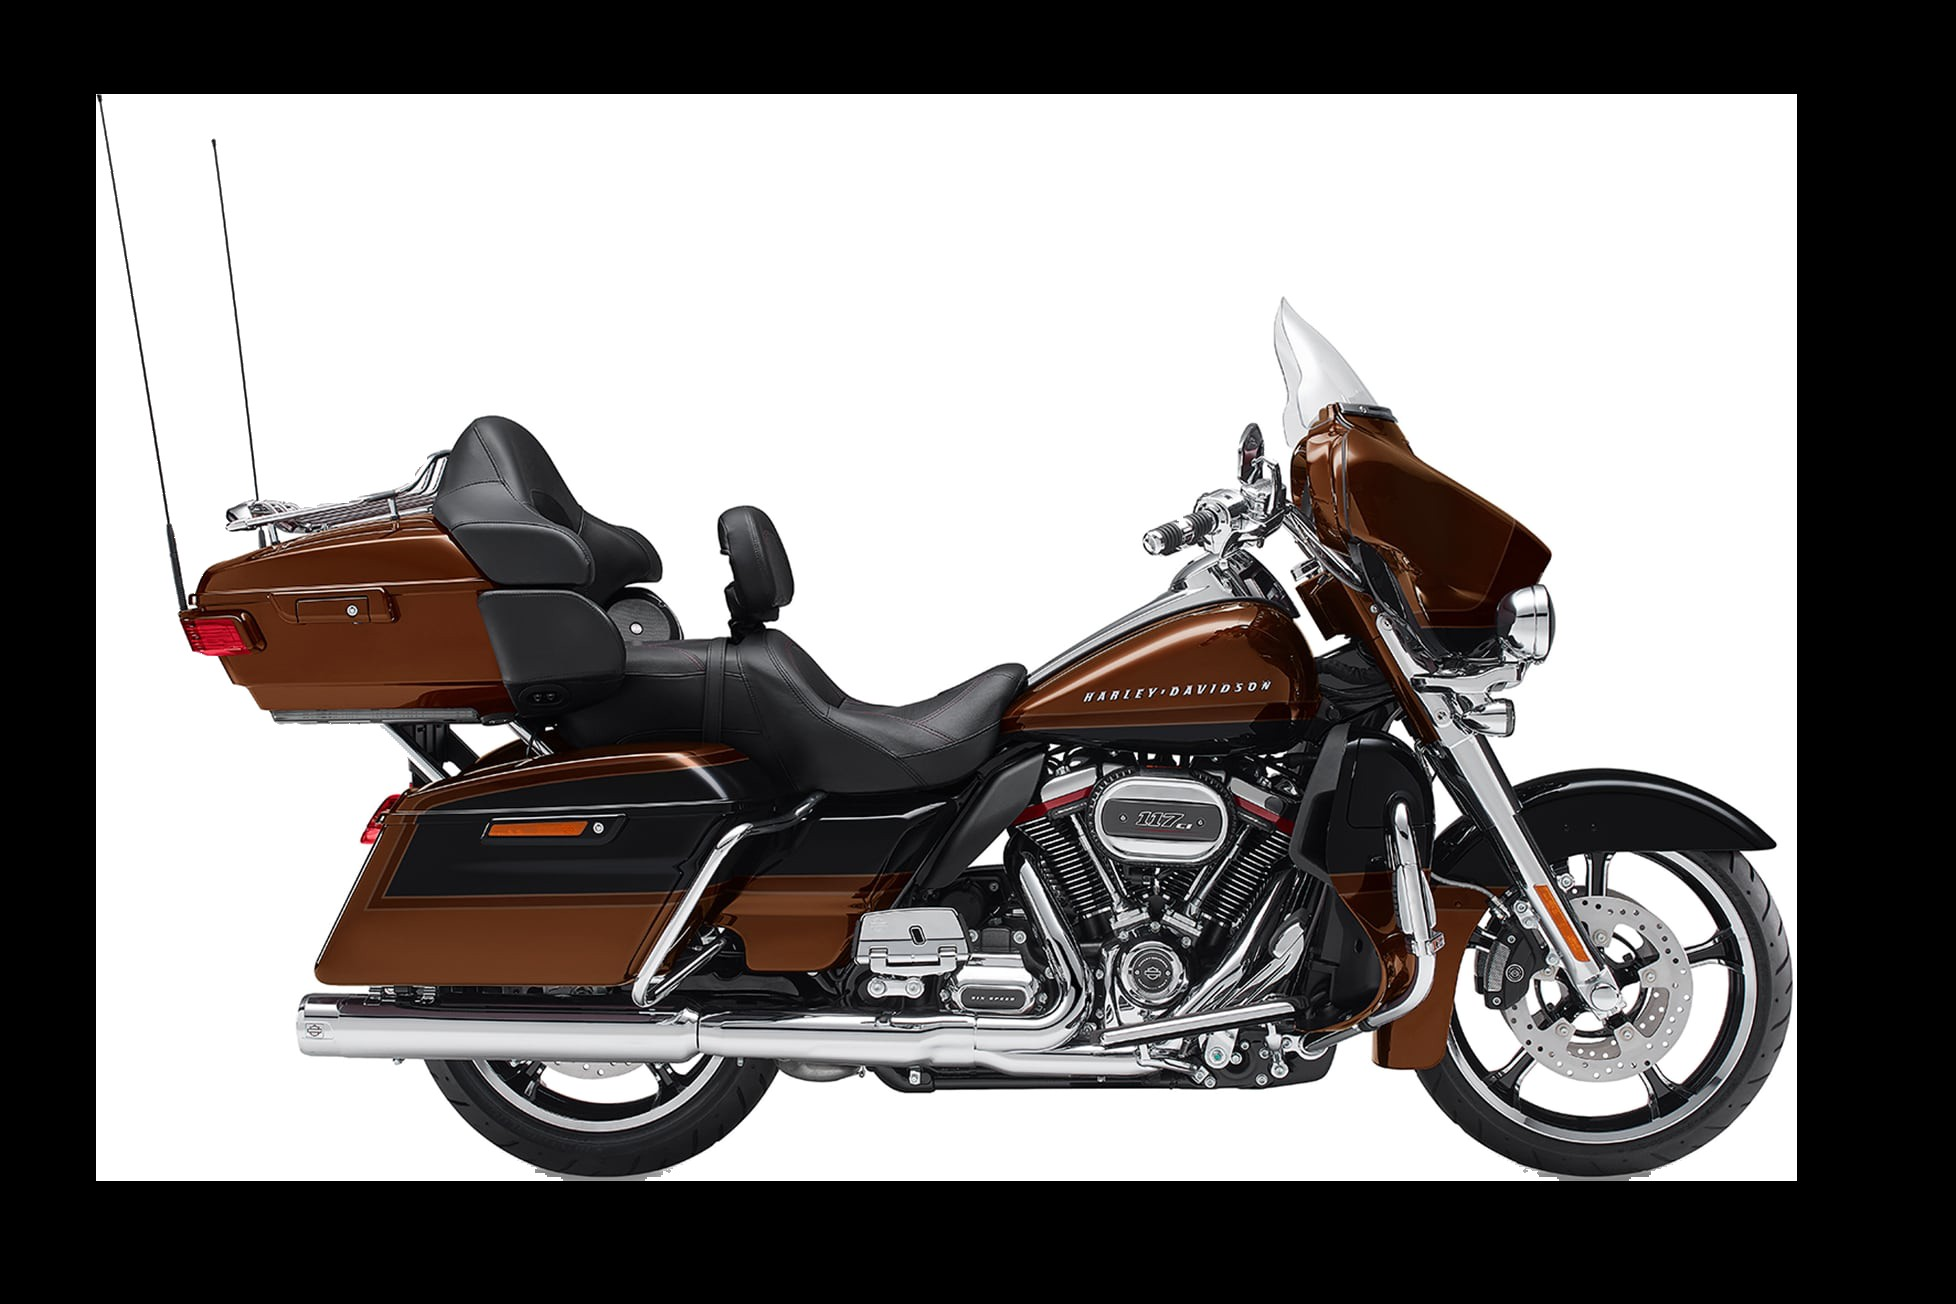motorcycle: (180, 405, 1789, 1172)
